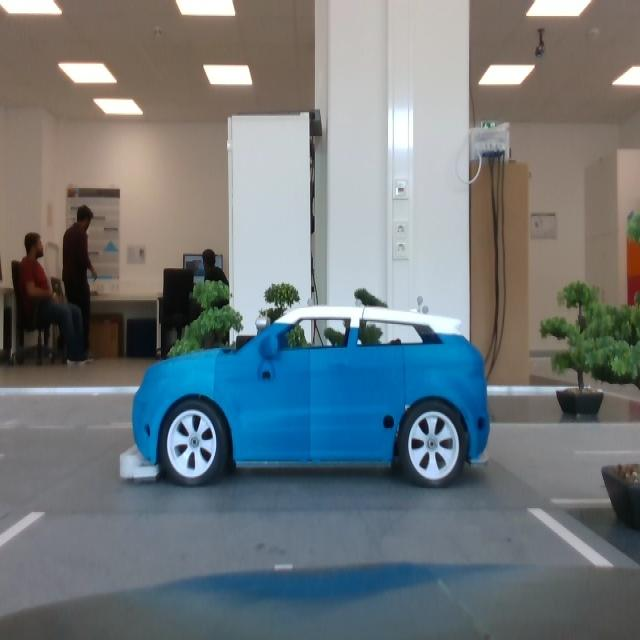car: (119, 303, 493, 490)
potted plant: (538, 281, 640, 416), (161, 278, 244, 412), (327, 284, 404, 407), (253, 281, 316, 413)
